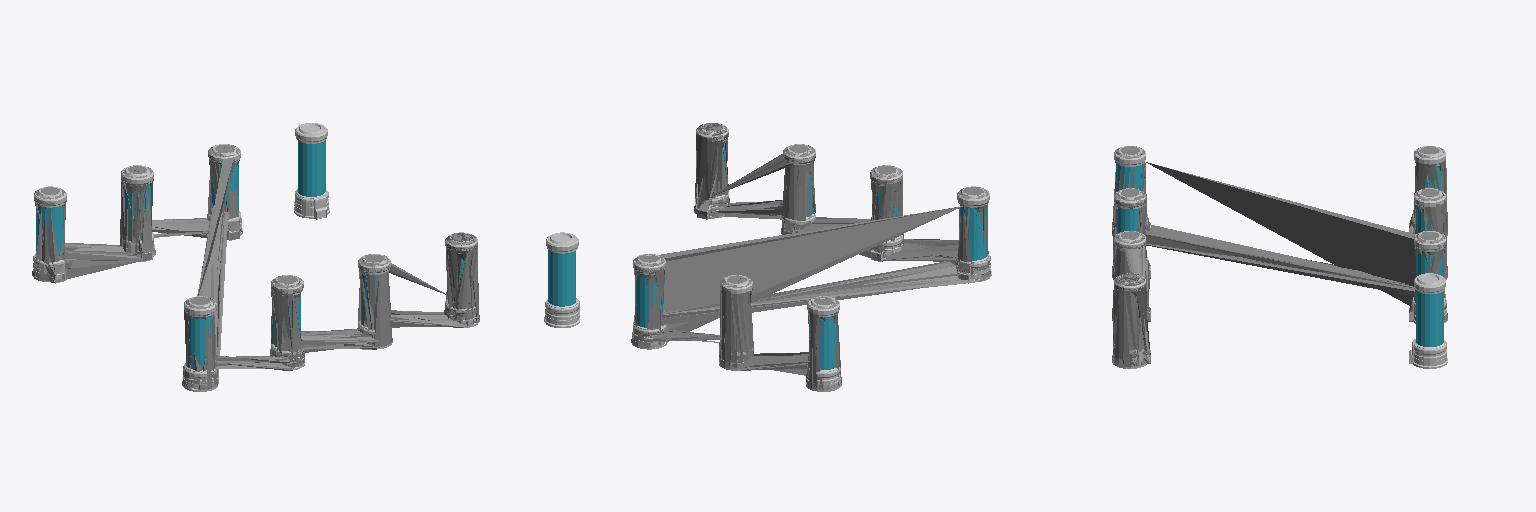
The model's file is Todojunto.obj.
The picture shows the model from 3 angles: view 1: azimuth 30°, elevation 25°; view 2: azimuth 150°, elevation 25°; view 3: azimuth 270°, elevation 25°; orthographic projection.
Parts seen in each view (by area): view 1: Lab_Instruments, CRYO007, Fuego; view 2: Fuego, Lab_Instruments, CRYO007, Gengon001; view 3: Fuego, Lab_Instruments, CRYO007, Gengon001.
Part boxes in pixels (x1,y1,x2,y2): Lab_Instruments: (32,145,478,389); CRYO007: (32,123,479,391); Fuego: (182,144,479,390); Fuego: (634,123,990,345); Lab_Instruments: (631,125,990,390); CRYO007: (544,123,991,391); Gengon001: (696,123,728,207); Fuego: (1112,146,1447,366); Lab_Instruments: (1112,146,1447,367); CRYO007: (1112,146,1447,368); Gengon001: (1112,273,1150,366).
Size of the model in its own units: 198 by 53.87 by 196.